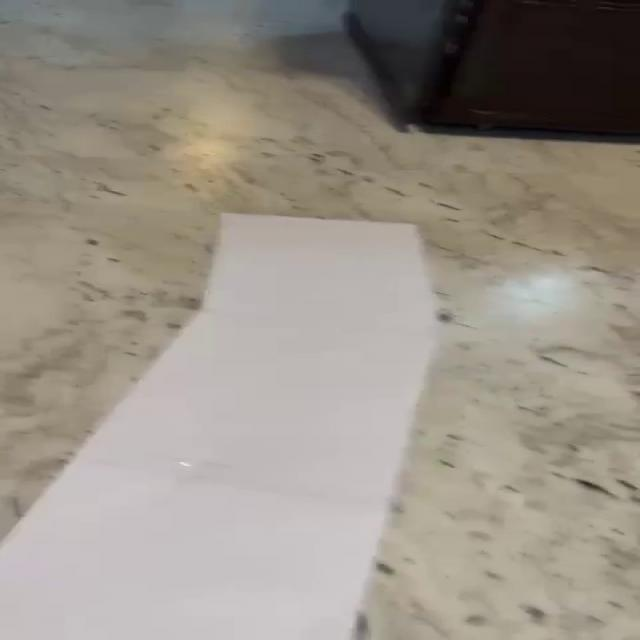road: (3, 214, 435, 640)
